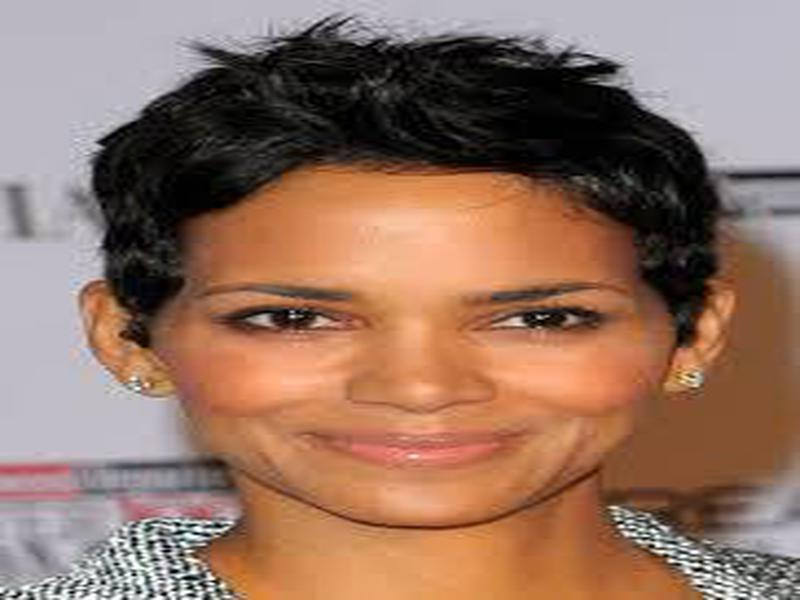without_mask: (172, 157, 657, 538)
